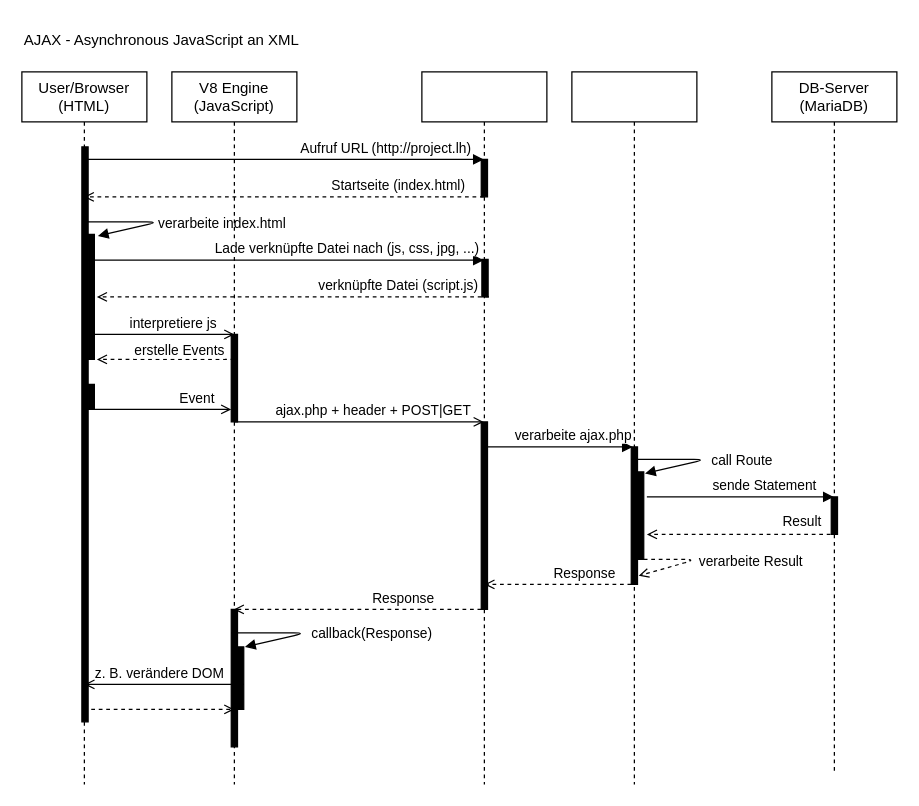
This 919x806 diagram has some shape labels left out. Each missing label, with the centre of its shape:
"Middleware (PHP)" belongs at pixel 634 427.
"Webserver" belongs at pixel 484 427.
